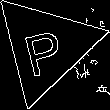P_N: (21, 18, 70, 77)
